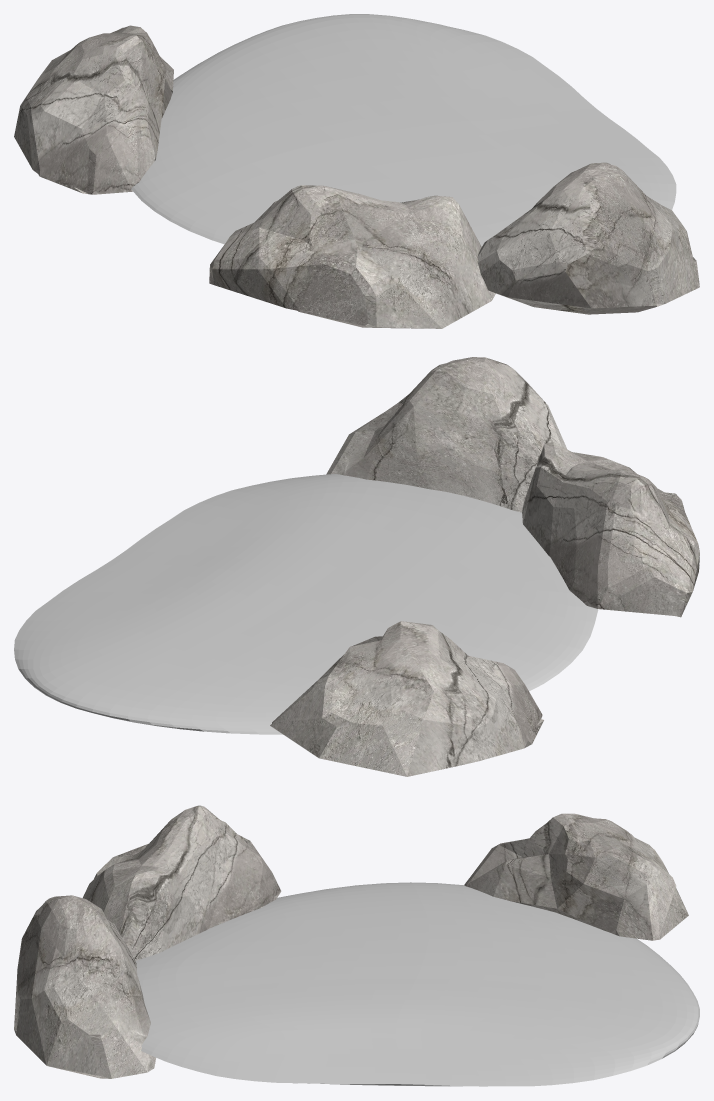
The model's file is Lake.fbx.
The picture shows the model from 3 angles, top to bottom: view 1: azimuth 30°, elevation 25°; view 2: azimuth 150°, elevation 25°; view 3: azimuth 270°, elevation 25°; orthographic projection. The views are drawn at different scales.
Parts seen in each view (by area): view 1: Retopo_Sphere.001, Icosphere.001, Icosphere, Icosphere.002; view 2: Retopo_Sphere.001, Icosphere.002, Icosphere, Icosphere.001; view 3: Retopo_Sphere.001, Icosphere, Icosphere.001, Icosphere.002.
Part boxes in pixels (<box>): Retopo_Sphere.001: <box>131,14,676,246</box>; Icosphere.001: <box>209,185,495,328</box>; Icosphere: <box>477,162,699,314</box>; Icosphere.002: <box>14,25,173,194</box>; Retopo_Sphere.001: <box>14,474,598,734</box>; Icosphere.002: <box>270,621,543,776</box>; Icosphere: <box>326,357,566,512</box>; Icosphere.001: <box>522,442,699,617</box>; Retopo_Sphere.001: <box>135,882,699,1086</box>; Icosphere: <box>14,895,155,1078</box>; Icosphere.001: <box>83,805,281,960</box>; Icosphere.002: <box>464,813,688,940</box>.
Bounding box in the file's own units: 924 × 256 × 1196.
